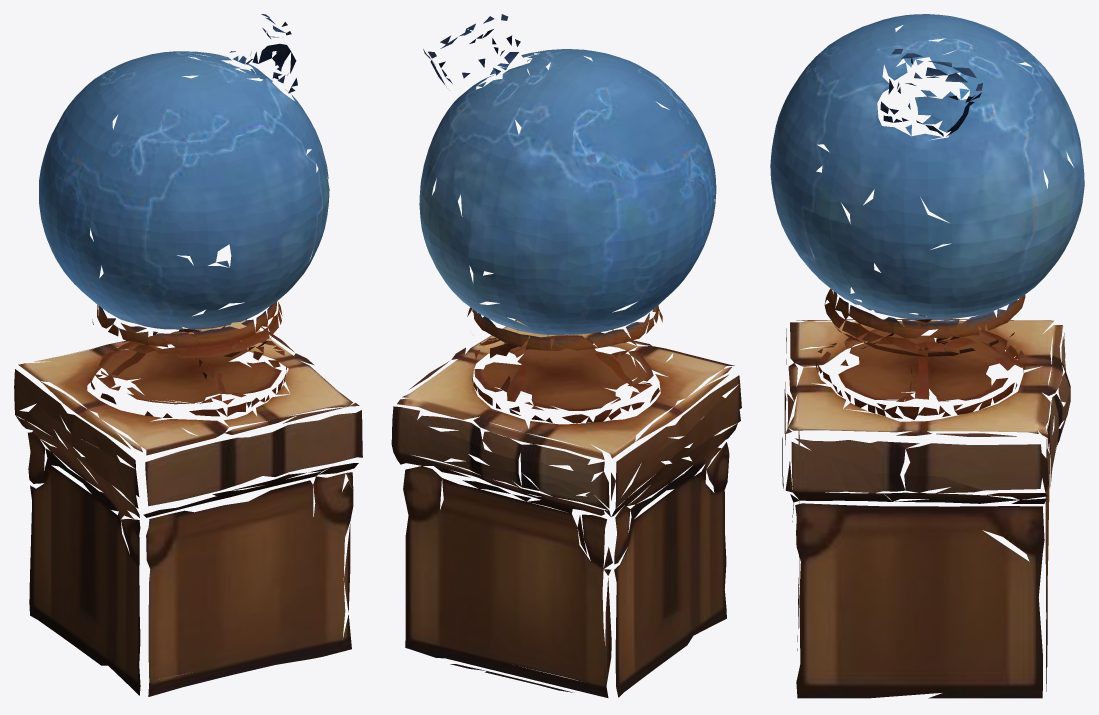
File: crystal_ball.glb
3 renders of one model, left to right at view 1: azimuth 30°, elevation 25°; view 2: azimuth 150°, elevation 25°; view 3: azimuth 270°, elevation 25°, orthographic. The views are drawn at different scales.
Visible parts, largest first — view 1: world.001; view 2: world.001; view 3: world.001.
Part boxes in pixels (left/top/right/bottom): world.001: left=14, top=14, right=362, bottom=696; world.001: left=391, top=14, right=741, bottom=697; world.001: left=770, top=14, right=1084, bottom=698.
Bounding box in the file's own units: 0.4485 × 0.9997 × 0.4473.
Materials: 1 (1 with a texture image).
